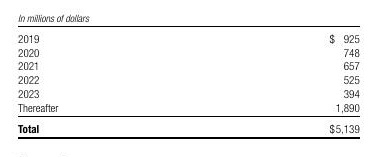table: (0, 0, 376, 157)
